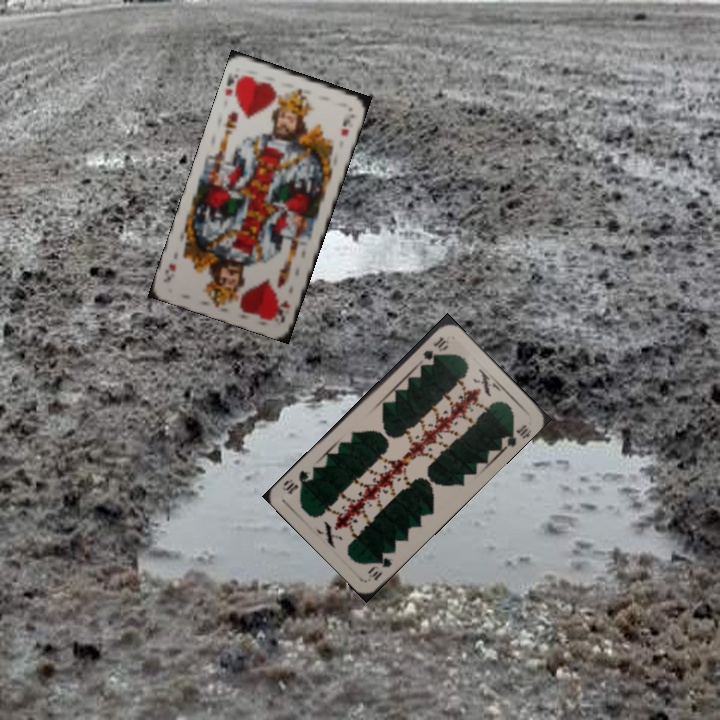G10: (419, 332, 451, 363), (364, 553, 394, 583)
HK: (220, 69, 247, 105), (272, 296, 293, 325)
